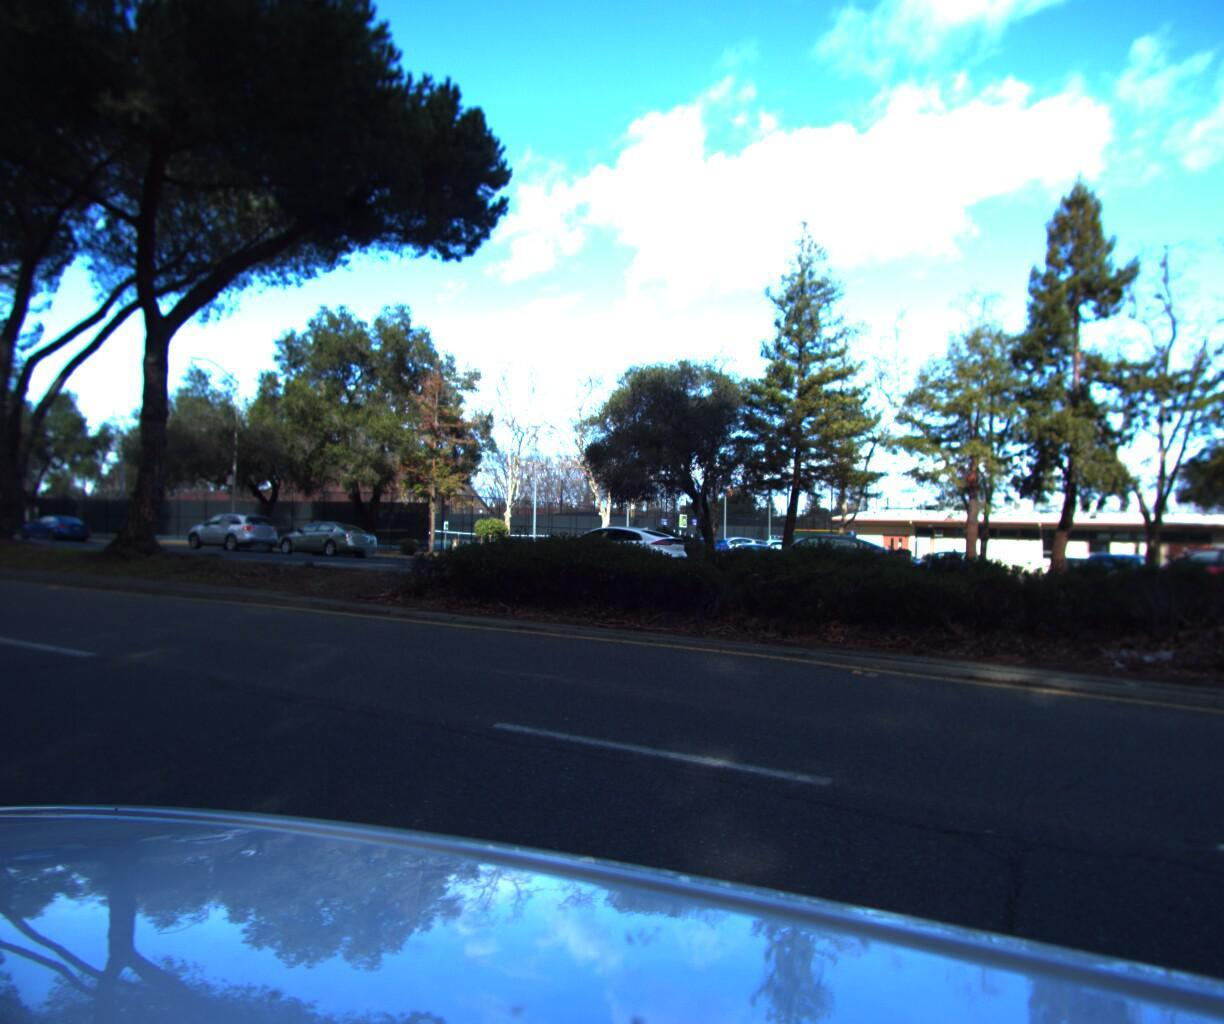car: (723, 525, 920, 589), (529, 523, 698, 592), (1089, 537, 1224, 618), (263, 522, 386, 568), (175, 514, 288, 558), (9, 517, 101, 548)
